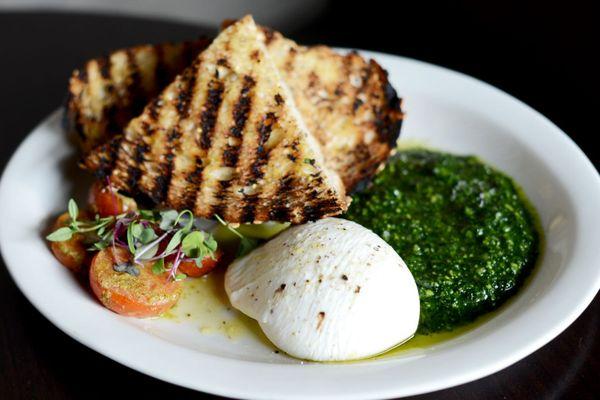curry: (344, 148, 539, 334)
soup: (60, 13, 405, 238)
